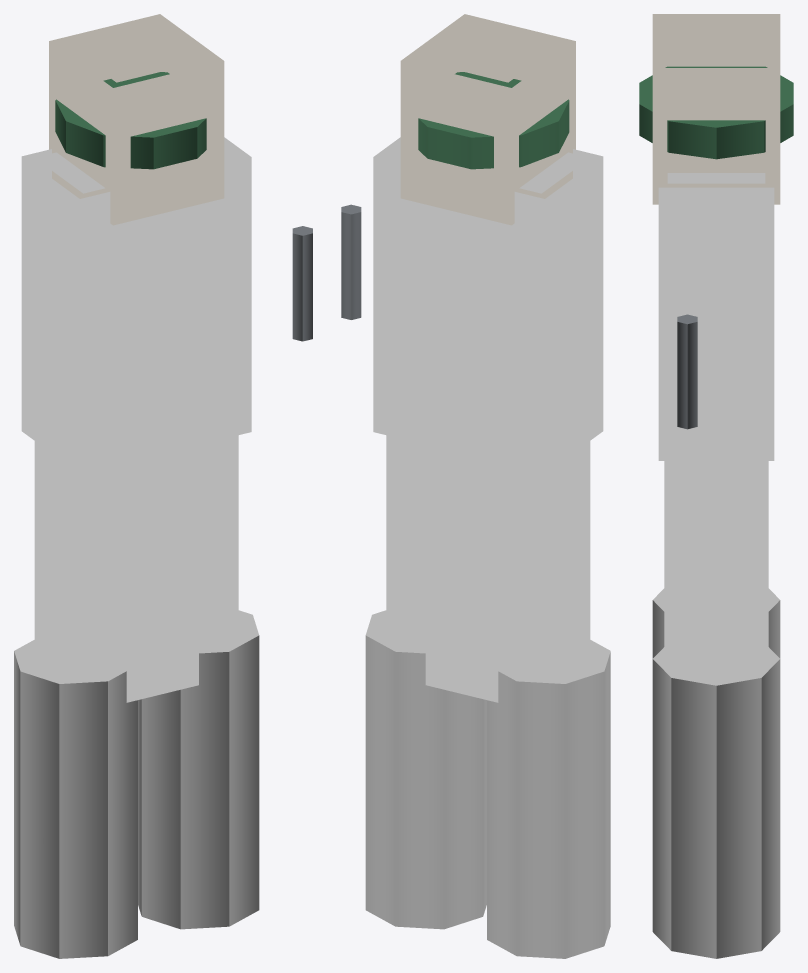
The model's file is staff-gpu-tech-idle.obj.
3 views of the same model, side by side, from view 1: azimuth 30°, elevation 25°; view 2: azimuth 150°, elevation 25°; view 3: azimuth 270°, elevation 25° (orthographic).
Visible parts, largest first — view 1: staff-gpu-tech-idle; view 2: staff-gpu-tech-idle; view 3: staff-gpu-tech-idle.
Boxes of the visible parts, x1=… form: staff-gpu-tech-idle: x1=14, y1=14, x2=312, y2=958; staff-gpu-tech-idle: x1=341, y1=14, x2=610, y2=958; staff-gpu-tech-idle: x1=639, y1=14, x2=793, y2=958.
Bounding box in the file's own units: 0.55 × 1.64 × 0.2663.
